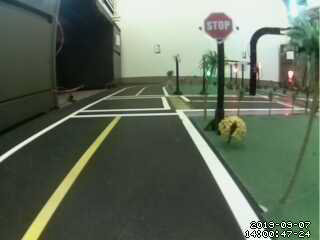Stop_Sign: (201, 11, 239, 41)
